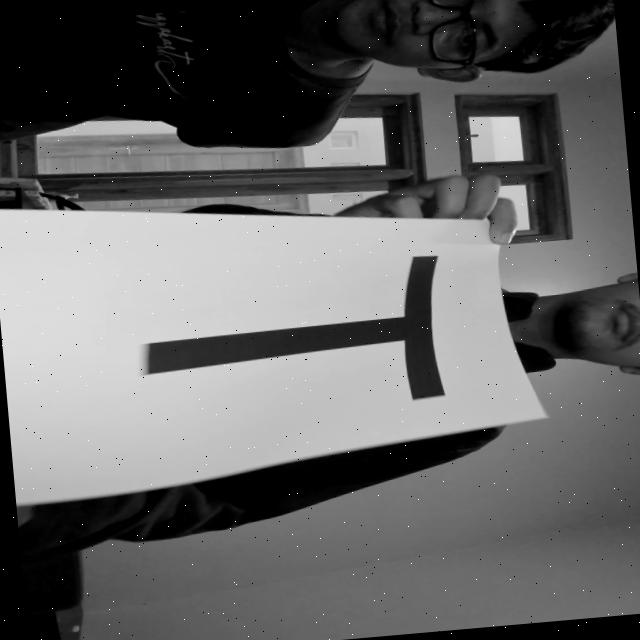t: (94, 242, 468, 451)
